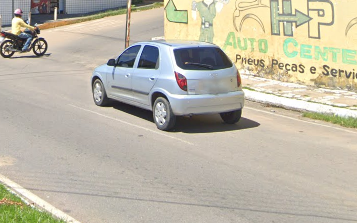car: (85, 33, 248, 141)
